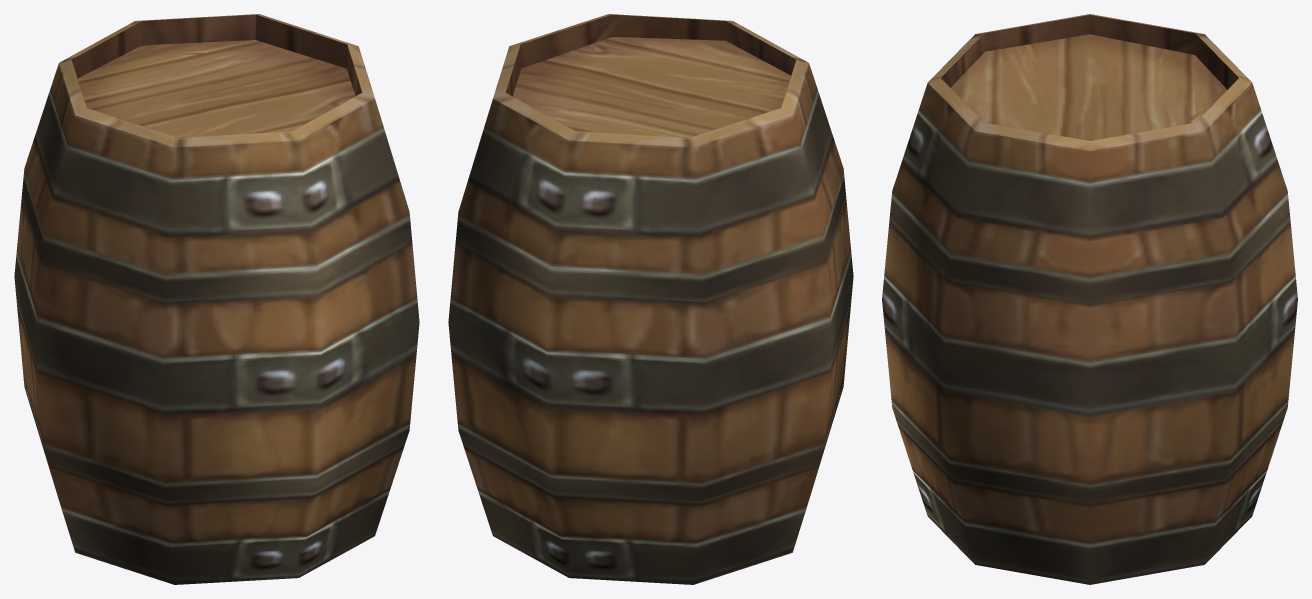
File: Wooden.FBX
3 renders of one model, left to right at view 1: azimuth 30°, elevation 25°; view 2: azimuth 150°, elevation 25°; view 3: azimuth 270°, elevation 25°, orthographic.
Parts seen in each view (by area): view 1: Wooden; view 2: Wooden; view 3: Wooden.
Part boxes in pixels (box(x1,y1,x2,y2)): Wooden: box(14, 14, 419, 584); Wooden: box(448, 14, 853, 584); Wooden: box(882, 14, 1297, 584).
Bounding box in the file's own units: 140 × 163 × 140.
